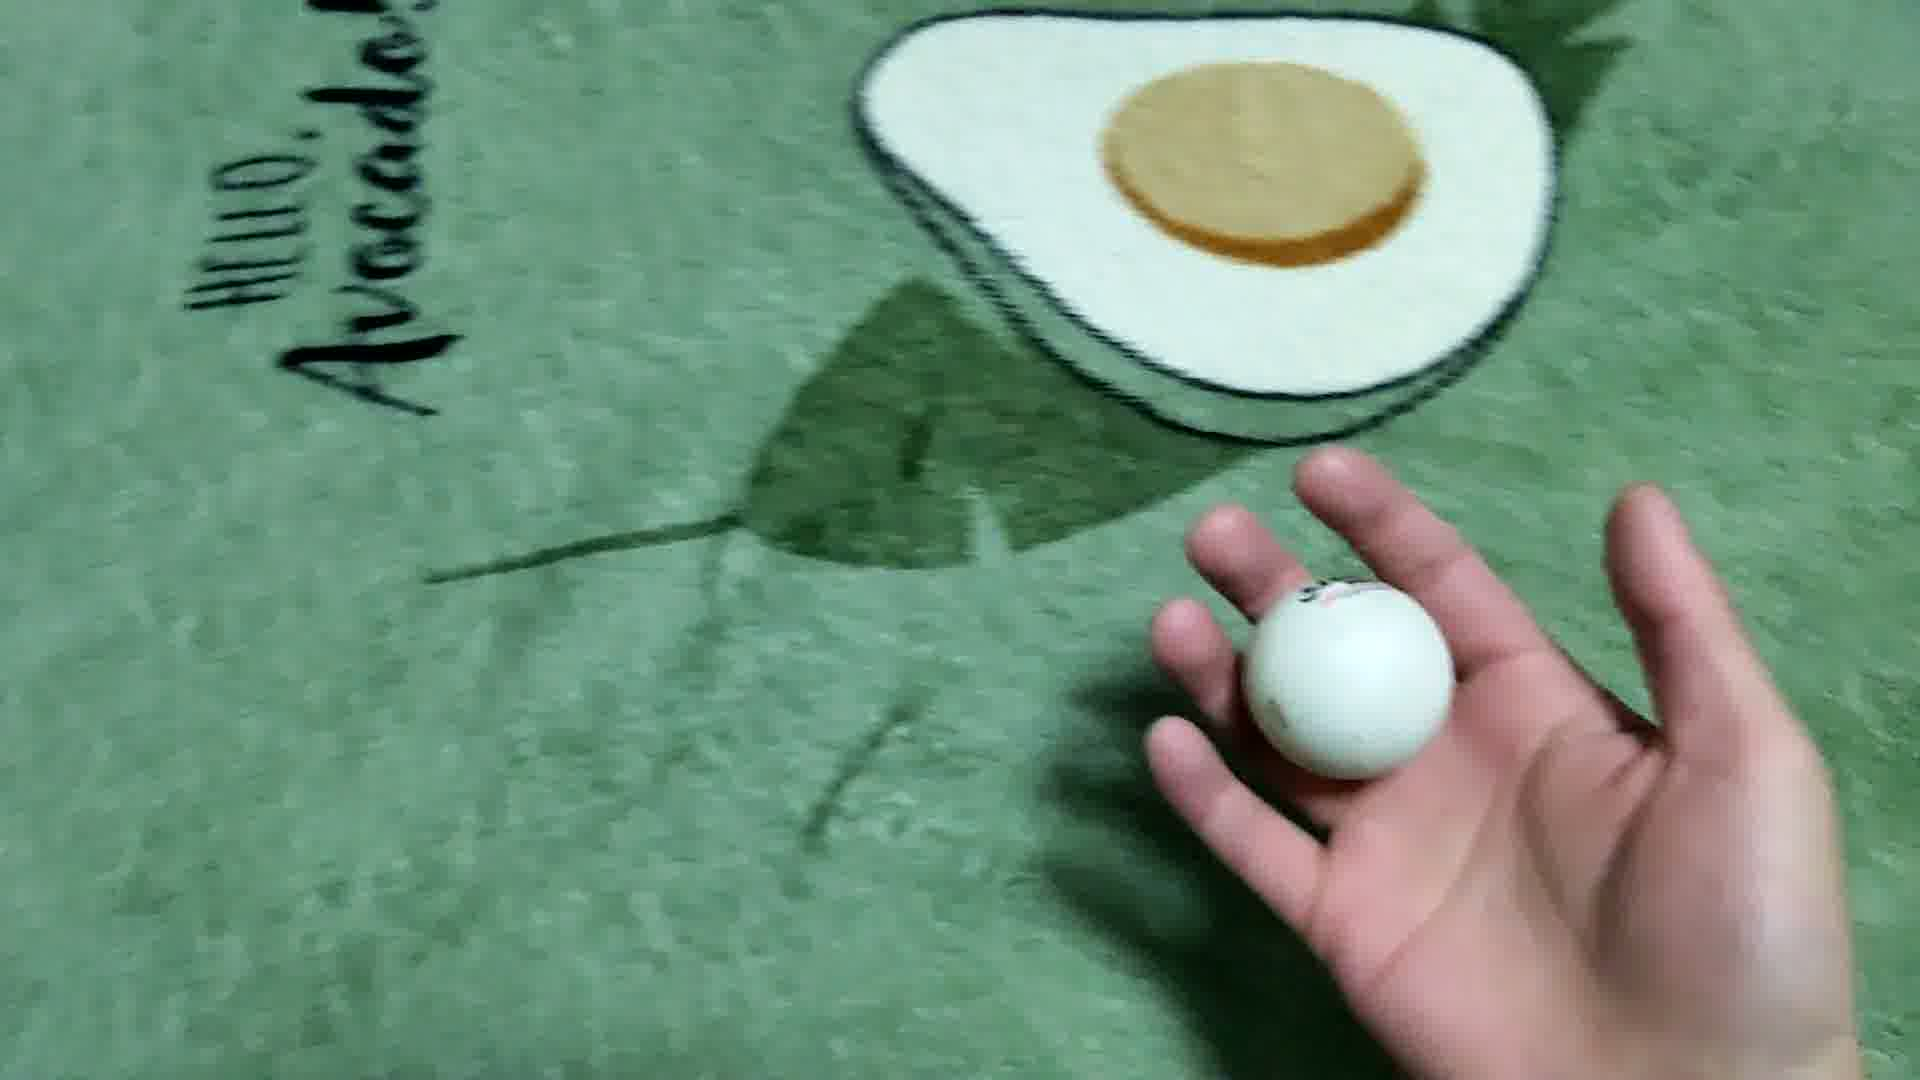Ball: (1244, 574, 1456, 777)
